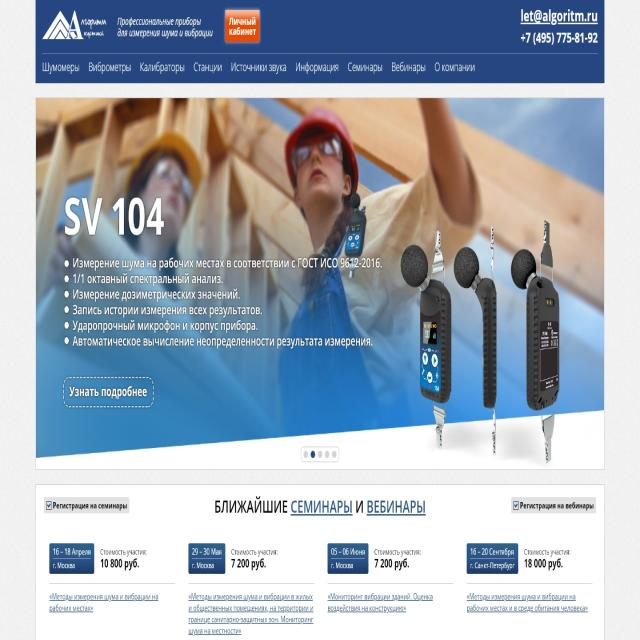button: (45, 497, 130, 514), (512, 498, 596, 514), (225, 8, 260, 42)
heading: (214, 495, 429, 520), (61, 193, 170, 239)
image: (35, 98, 603, 469), (36, 5, 112, 46), (50, 542, 94, 574), (468, 545, 517, 573), (327, 544, 369, 575), (188, 542, 227, 575)
link: (518, 6, 603, 24)
text: (64, 255, 389, 352), (188, 592, 315, 640), (465, 590, 590, 619), (48, 591, 159, 616), (327, 589, 438, 614), (117, 14, 214, 42), (520, 26, 602, 48), (522, 547, 573, 572), (373, 547, 422, 573), (100, 546, 148, 572), (230, 547, 279, 569)
